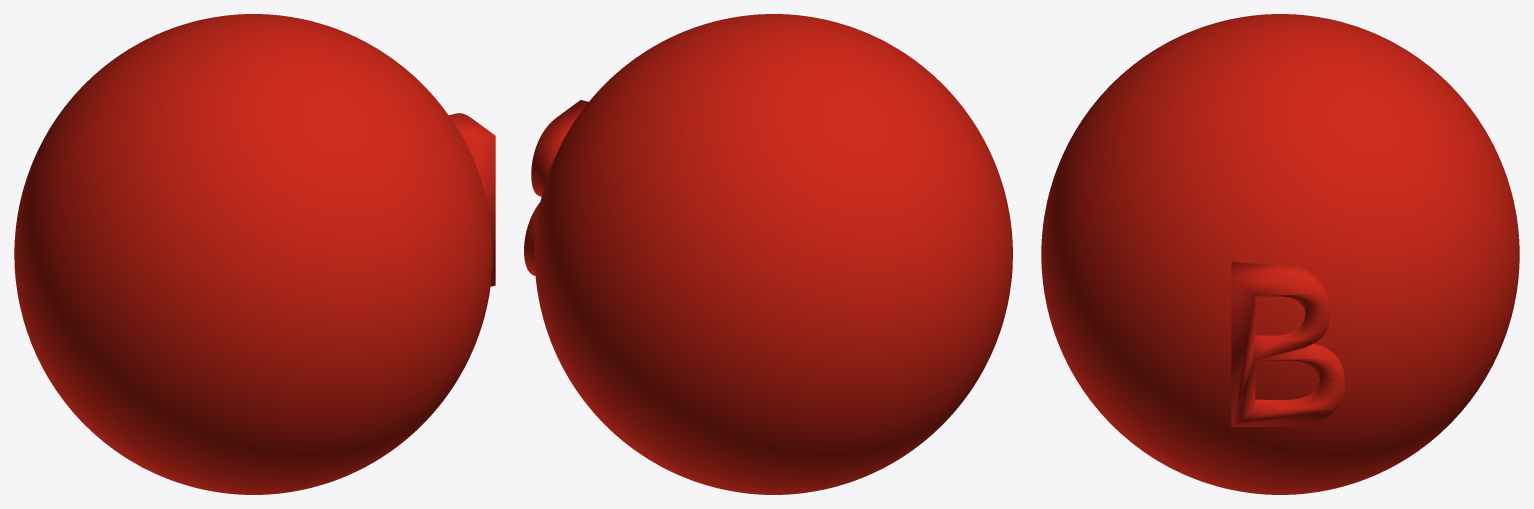
The model's file is Boron.obj.
3 renders of one model, left to right at view 1: azimuth 30°, elevation 25°; view 2: azimuth 150°, elevation 25°; view 3: azimuth 270°, elevation 25°, orthographic.
Visible parts, largest first — view 1: Sphere, Text; view 2: Sphere, Text; view 3: Sphere, Text.
Part boxes in pixels (x1,y1,x2,y2): Sphere: (14, 14, 492, 494); Text: (449, 113, 495, 286); Sphere: (534, 14, 1012, 494); Text: (524, 100, 588, 275); Sphere: (1041, 14, 1519, 494); Text: (1231, 262, 1344, 426).
Size of the model in its own units: 2.02 by 2 by 1.97.
